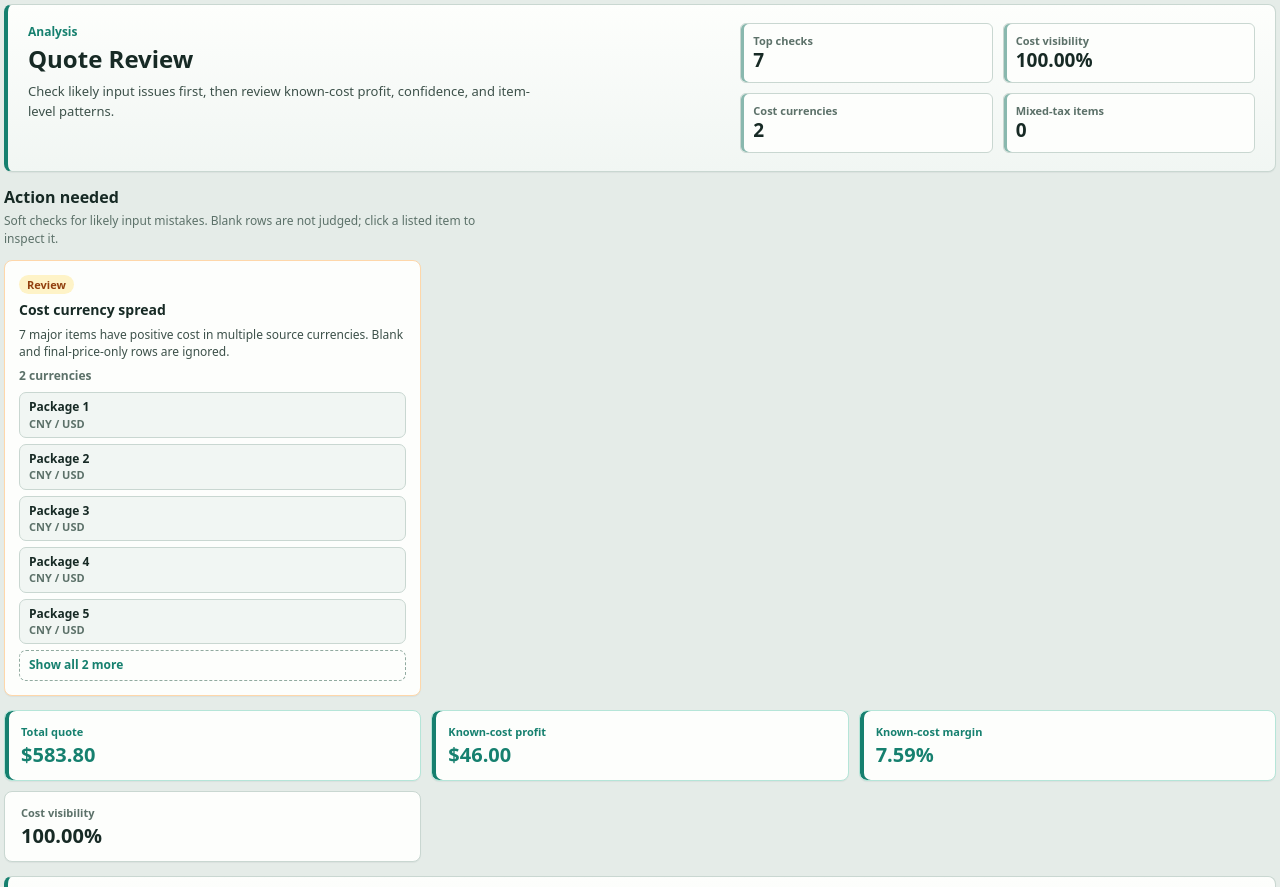
QuotationAnalysisView › lets the user reveal every affected item when an advisory group has more than five rows
Expected: the number of buttons with class "advisory-item-button" is 5, left=19, top=392, right=406, bottom=438; left=19, top=444, right=406, bottom=490; left=19, top=496, right=406, bottom=541; left=19, top=547, right=406, bottom=593; left=19, top=599, right=406, bottom=644
Expected: the text "Package 7" is not shown
Click the button with class "advisory-more-button".
click(76, 665)  # box left=19, top=650, right=406, bottom=681
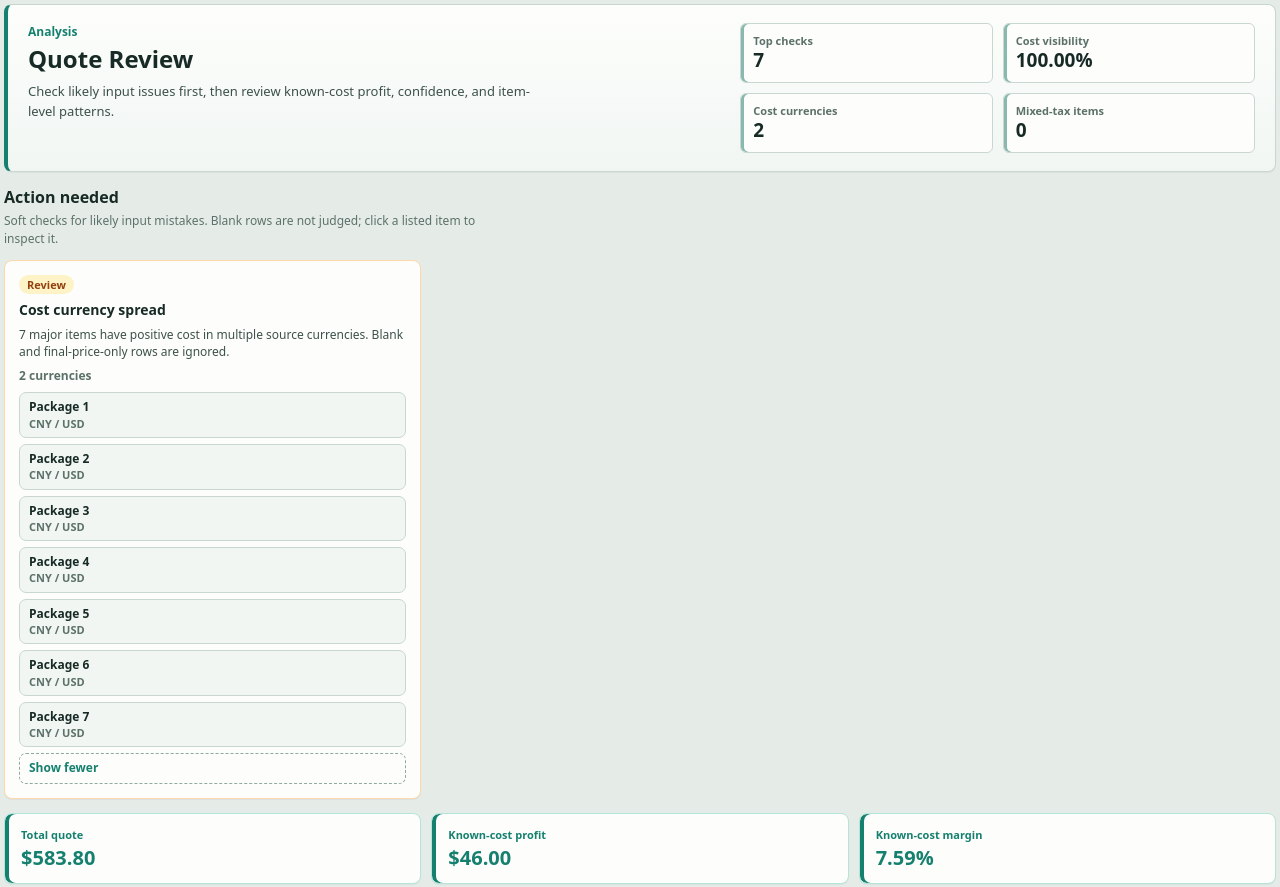
Result: the number of buttons with class "advisory-item-button" is 7
Result: the text "Package 7" is shown at left=29, top=708, right=89, bottom=725
Result: the text "Show fewer" is shown at left=19, top=753, right=406, bottom=784
